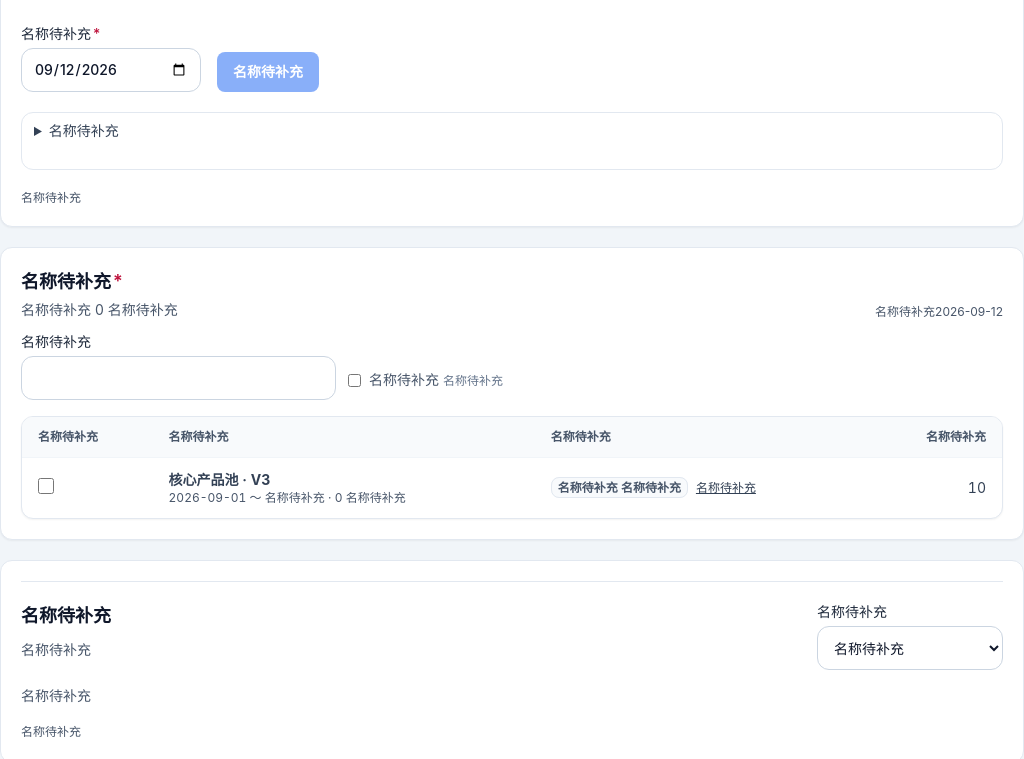
Scenario: ProductPoolWorkspacePage › 产品选择后自动初筛，未保存也会携带已选版本与排除项；清空选择立即作废结论
This screenshot has width=1024, height=759.
(page scrolled)
Click the checkbox named "核心产品池": (46, 486) x1=38 y1=478 x2=54 y2=494
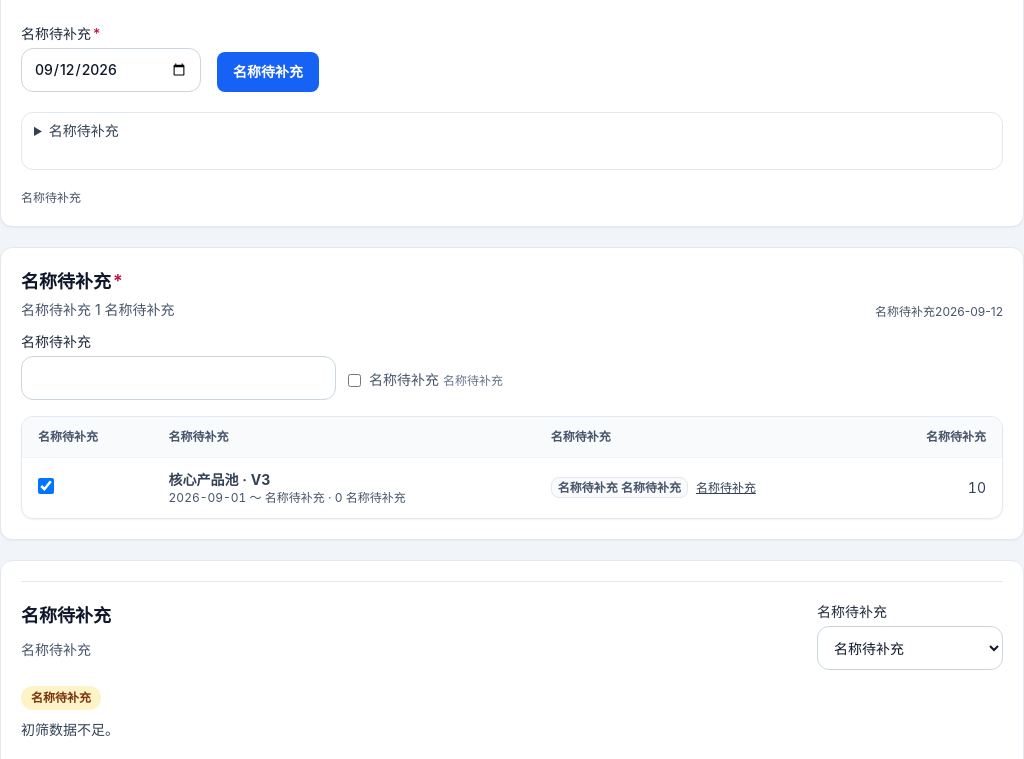
Now the text "初筛数据不足。" is shown, box x1=21 y1=721 x2=119 y2=738
Click the checkbox named "核心产品池 · V3": (46, 486) x1=38 y1=478 x2=54 y2=494
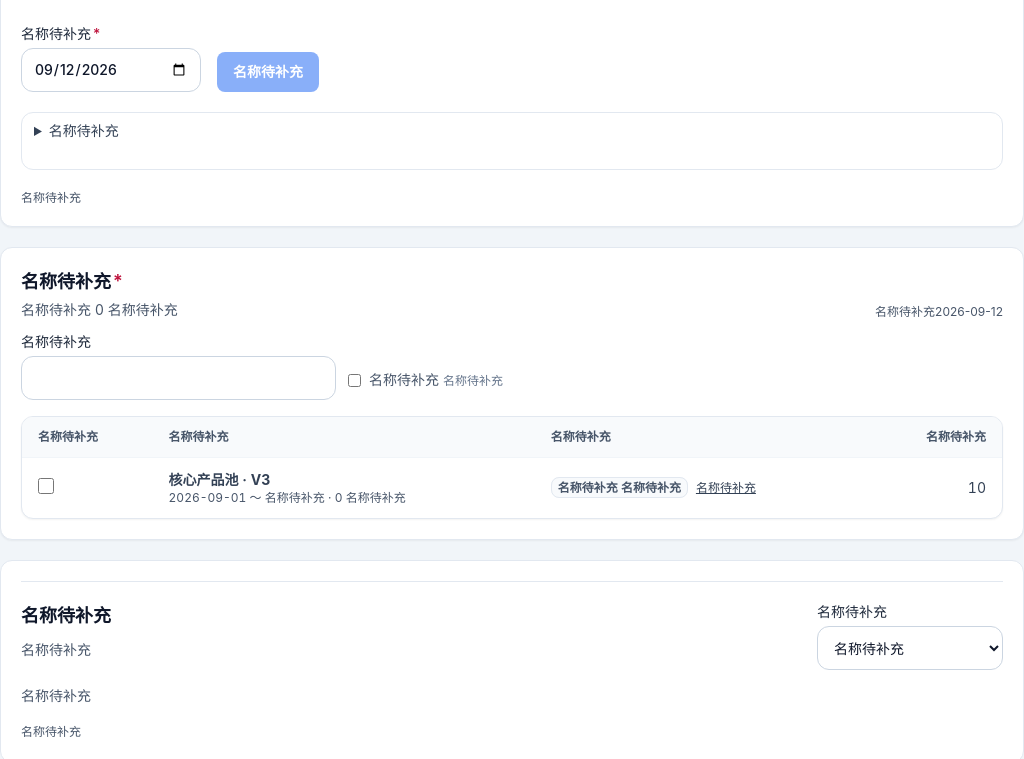
Now the text "初筛数据不足。" is gone
